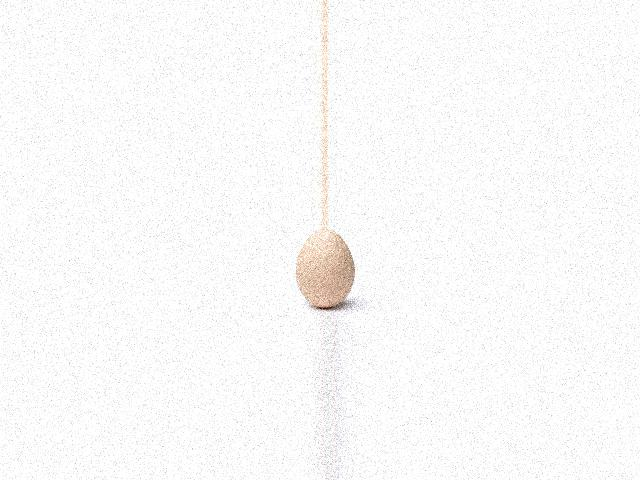egg: (296, 229, 354, 308)
